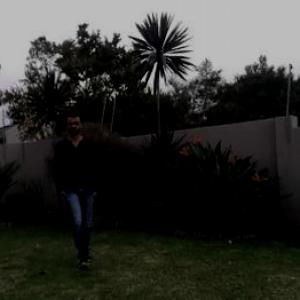follow: (57, 109, 102, 259)
